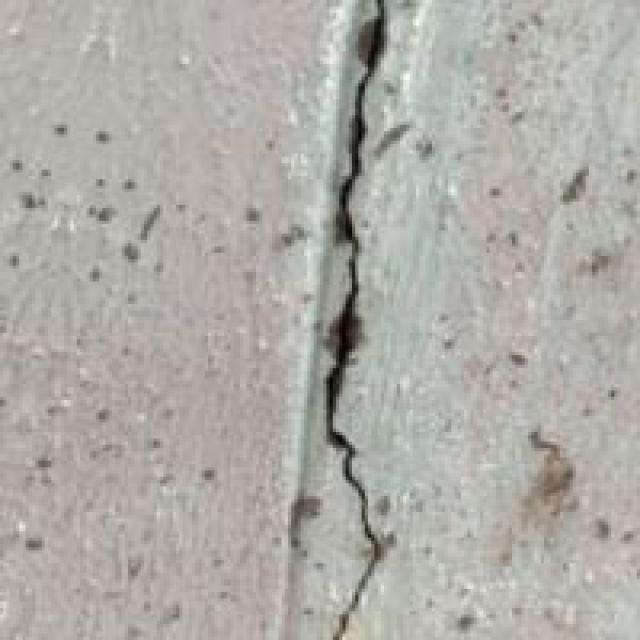crack: (240, 0, 477, 637)
